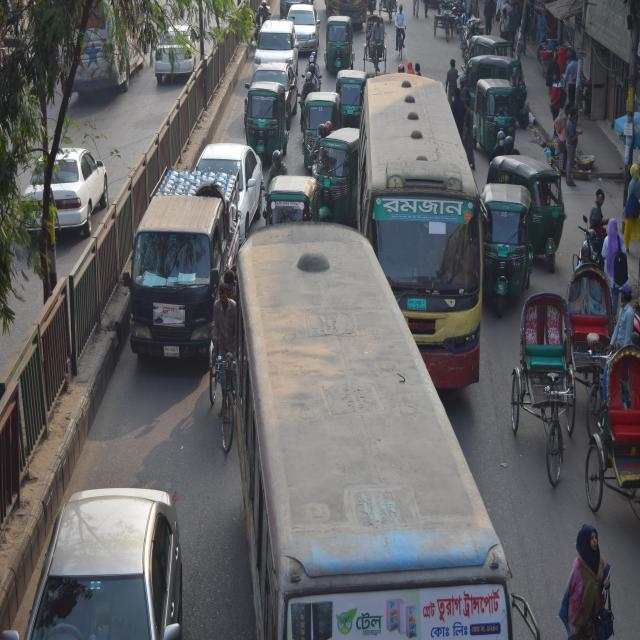bus: (222, 214, 521, 636), (358, 64, 491, 398)
car: (12, 468, 190, 640), (290, 0, 324, 54)
microbus: (246, 11, 302, 77)
pickup-van: (126, 162, 231, 366)
